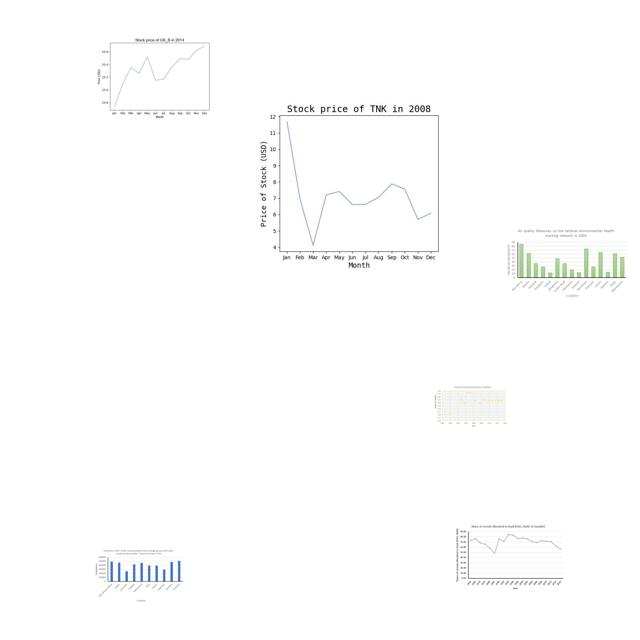Graph: (238, 94, 474, 271), (94, 28, 222, 124), (504, 226, 628, 300), (454, 523, 564, 591), (92, 548, 185, 603), (433, 384, 508, 428)
